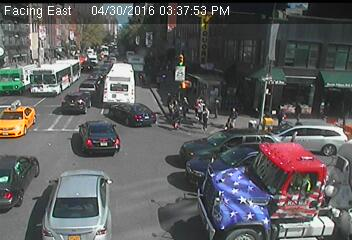neg: (215, 152, 257, 209), (96, 116, 133, 164), (33, 117, 64, 158), (47, 55, 71, 88), (115, 62, 139, 94), (274, 160, 297, 192), (167, 49, 187, 75)
pos: (169, 108, 186, 131), (198, 105, 215, 127), (294, 100, 310, 122), (271, 100, 287, 122), (226, 106, 242, 127)
